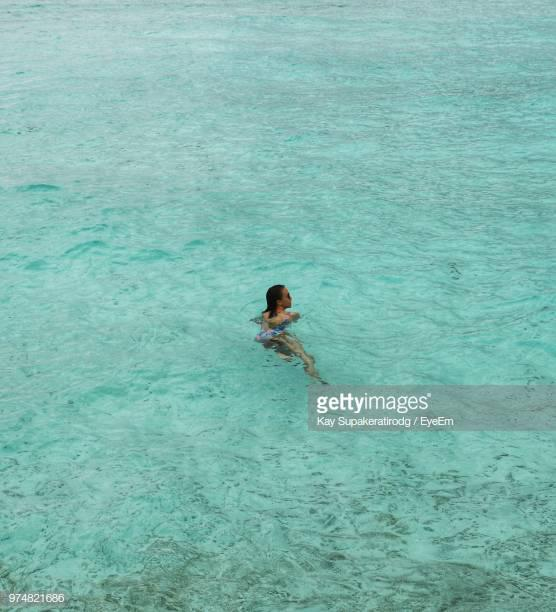swimmer: (253, 280, 316, 376)
